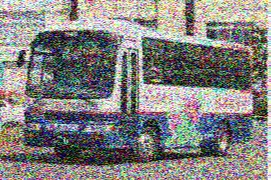bus: (17, 26, 253, 161)
